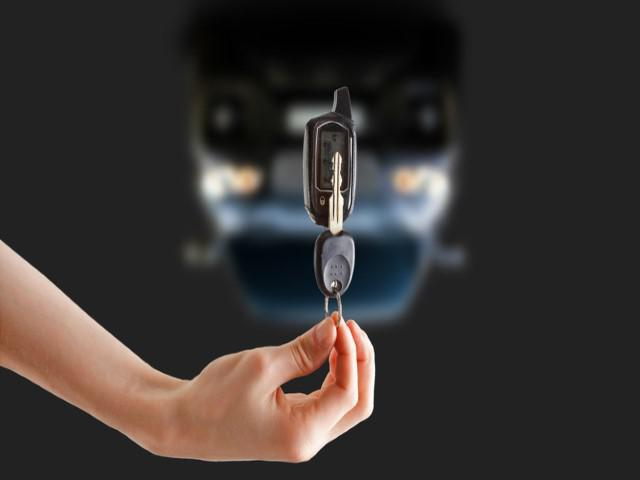key: (310, 152, 360, 360)
